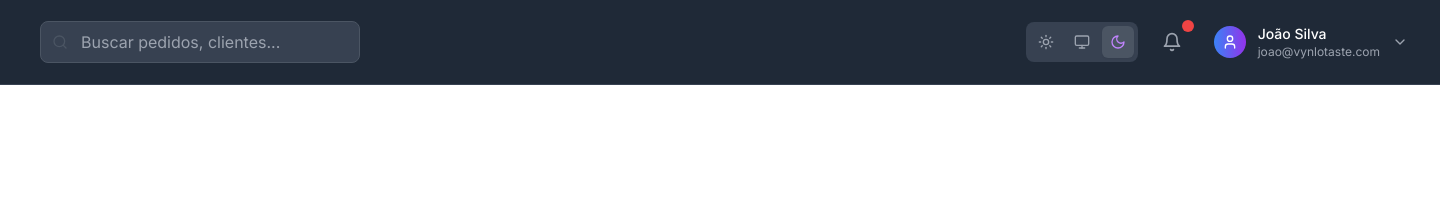
Test case: Header Component › deve abrir e fechar o menu do usuário
Expected: the text "Configurações" is not shown
# Abrir menu
Click the button with aria-label "Menu do usuário": (1311, 42) x1=1206 y1=16 x2=1416 y2=68
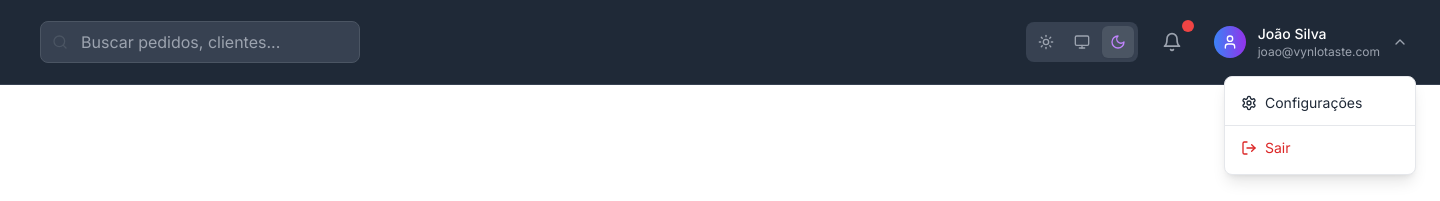
Now the text "Configurações" is shown, box x1=1265 y1=93 x2=1362 y2=113
Now the text "Sair" is shown, box x1=1265 y1=138 x2=1290 y2=158
Now the button with aria-label "Menu do usuário" is expanded, box x1=1206 y1=16 x2=1416 y2=68
